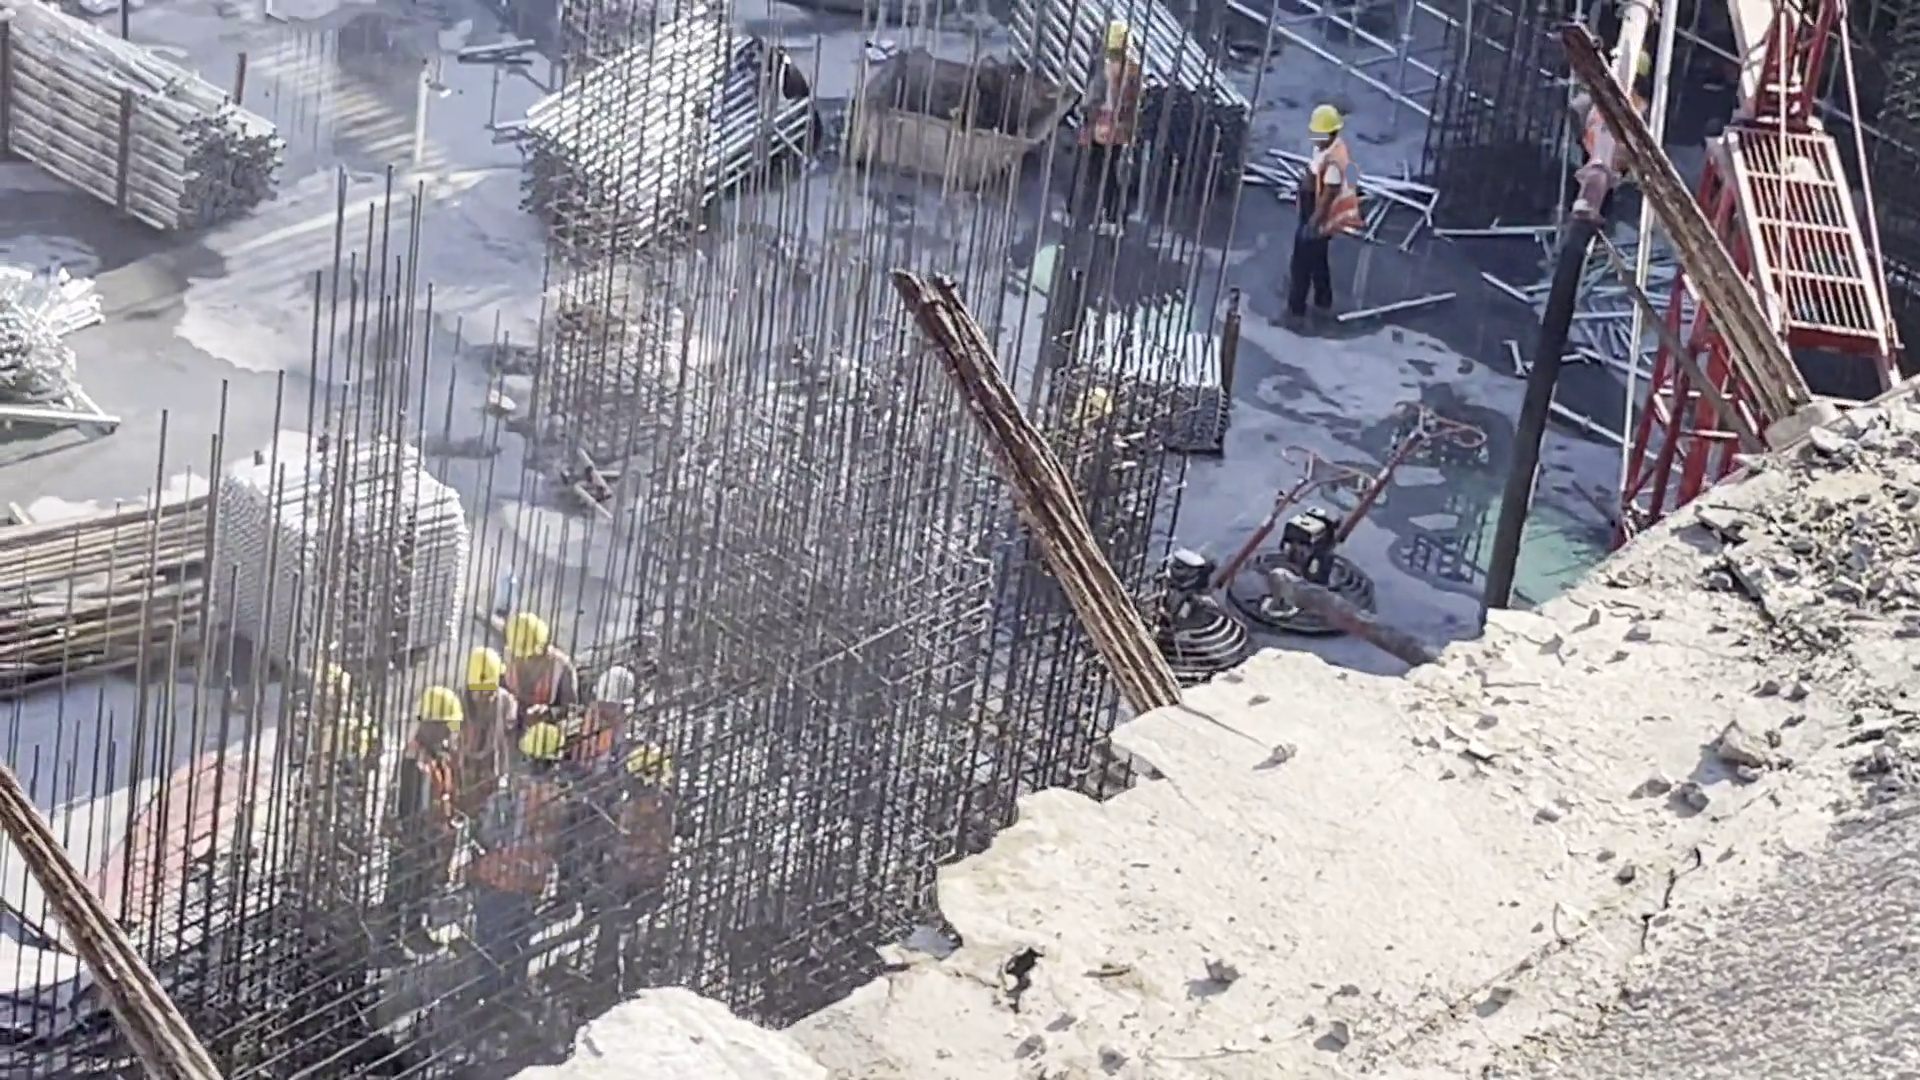helmet: (622, 749, 685, 788), (509, 626, 561, 668), (598, 668, 643, 708), (520, 727, 559, 770), (409, 690, 453, 728), (1094, 20, 1129, 56), (465, 658, 499, 687), (1310, 108, 1345, 134)
hopper: (851, 50, 1058, 177)
person: (466, 719, 568, 1007), (382, 683, 462, 961), (584, 744, 673, 976), (1284, 94, 1362, 338), (560, 651, 646, 826), (1075, 16, 1142, 226), (442, 646, 508, 820), (489, 607, 582, 727)
scaffold: (1, 48, 332, 245), (493, 23, 748, 249), (268, 457, 469, 656), (1033, 311, 1239, 449), (1071, 1, 1227, 181), (1, 287, 123, 433)
vest: (607, 803, 670, 890), (500, 781, 550, 890), (1086, 60, 1134, 155), (1306, 146, 1348, 234), (504, 659, 577, 705), (464, 716, 504, 784), (398, 749, 442, 809), (587, 710, 608, 774)
